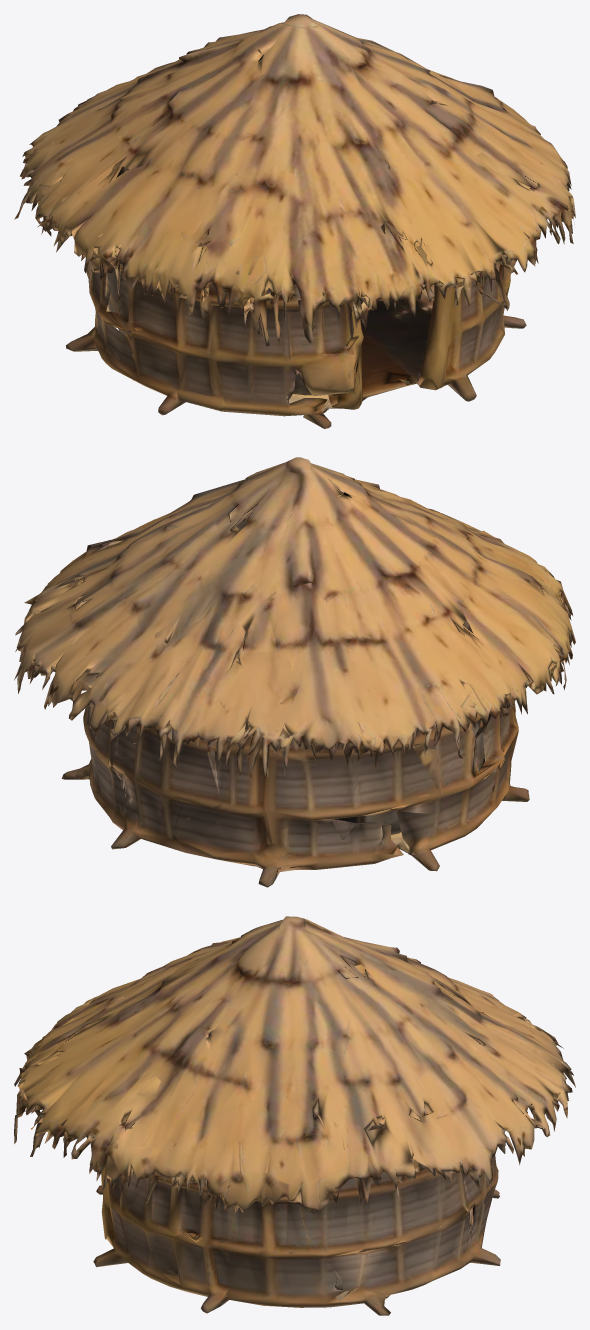
The model's file is grass_hut.glb.
3 views of the same model, one above another, from view 1: azimuth 30°, elevation 25°; view 2: azimuth 150°, elevation 25°; view 3: azimuth 270°, elevation 25° (orthographic). The views are drawn at different scales.
Visible parts, largest first — view 1: Mesh1.0; view 2: Mesh1.0; view 3: Mesh1.0.
Part boxes in pixels (<box>): Mesh1.0: <box>14,14,575,428</box>; Mesh1.0: <box>14,457,575,887</box>; Mesh1.0: <box>14,916,575,1315</box>.
Bounding box in the file's own units: 1.87 × 1.24 × 1.99.
1 material, 1 textured.
